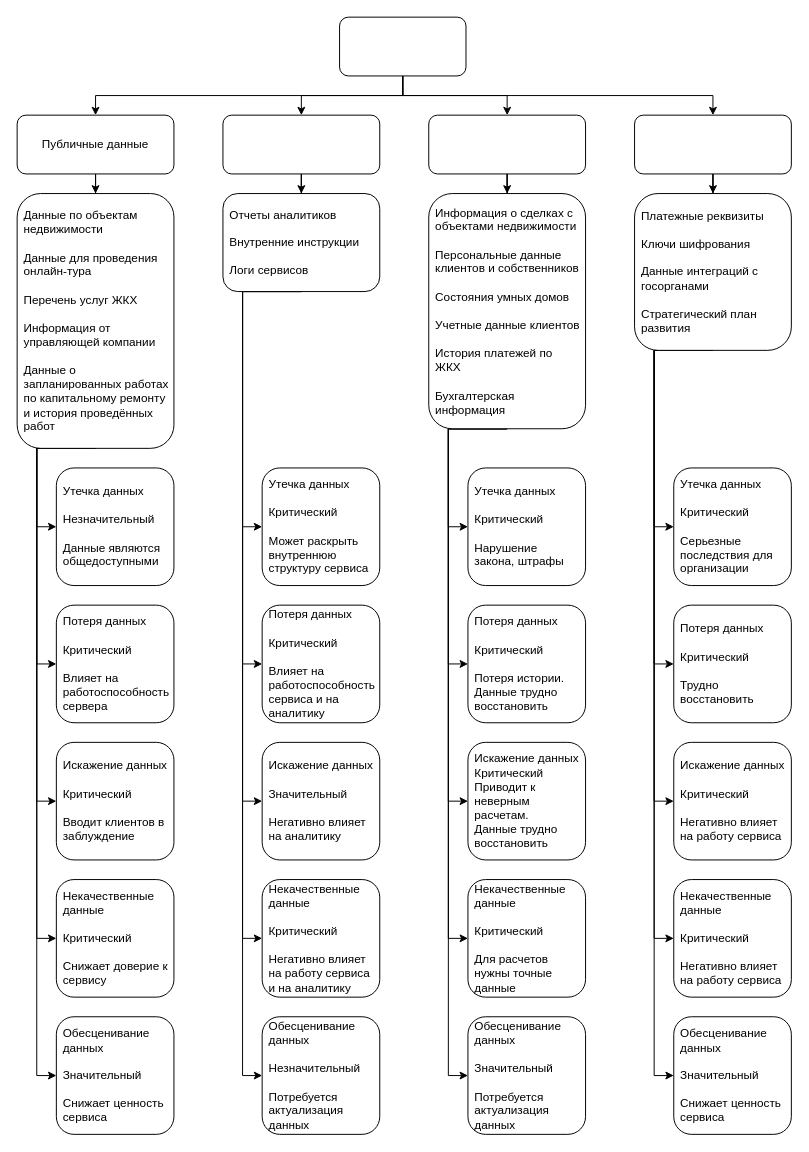
Image size: 809x1152. Some labels were removed from this diagram. The shapes that lost their labels are listed below. From the top down, each one's centre as x and y in pixels, then its label:
At [402,46]: "Безопасность данных".
At [301,144]: "Внутренние данные".
At [507,144]: "Конфиденциальные данные".
At [712,144]: "Секретные данные".
